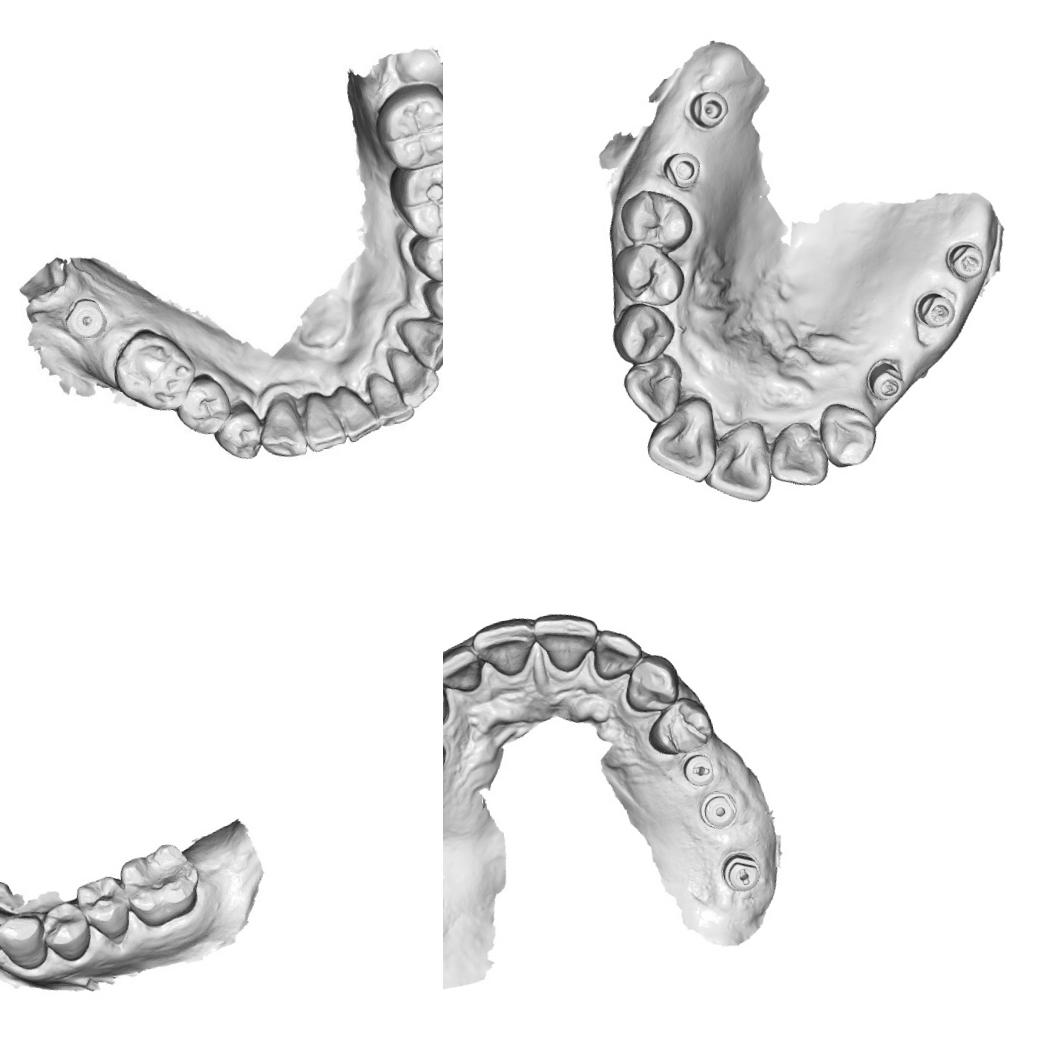canine: (608, 298, 680, 371), (814, 396, 880, 471), (252, 389, 314, 468), (618, 649, 684, 717), (393, 308, 443, 376), (0, 910, 50, 974)
implant: (58, 292, 114, 345), (682, 85, 732, 134), (941, 236, 990, 284), (912, 285, 959, 334), (691, 788, 742, 833), (864, 358, 910, 404), (662, 146, 706, 193)
implant_minus: (718, 847, 766, 898), (679, 749, 720, 790)
incisor: (640, 405, 720, 490), (696, 428, 778, 510), (528, 606, 605, 678), (468, 616, 540, 682), (763, 424, 831, 492), (619, 356, 681, 426), (384, 344, 442, 412), (588, 624, 648, 684), (301, 386, 352, 456), (332, 380, 384, 446), (367, 372, 421, 428), (443, 641, 484, 700)
molar: (105, 323, 197, 416), (115, 839, 205, 931), (367, 75, 443, 176), (385, 155, 443, 244)
premolar: (608, 236, 688, 313), (616, 183, 698, 257), (642, 693, 718, 764), (170, 369, 232, 440), (73, 872, 133, 944), (209, 397, 268, 465), (38, 898, 95, 966), (405, 225, 443, 287), (419, 272, 443, 335)
